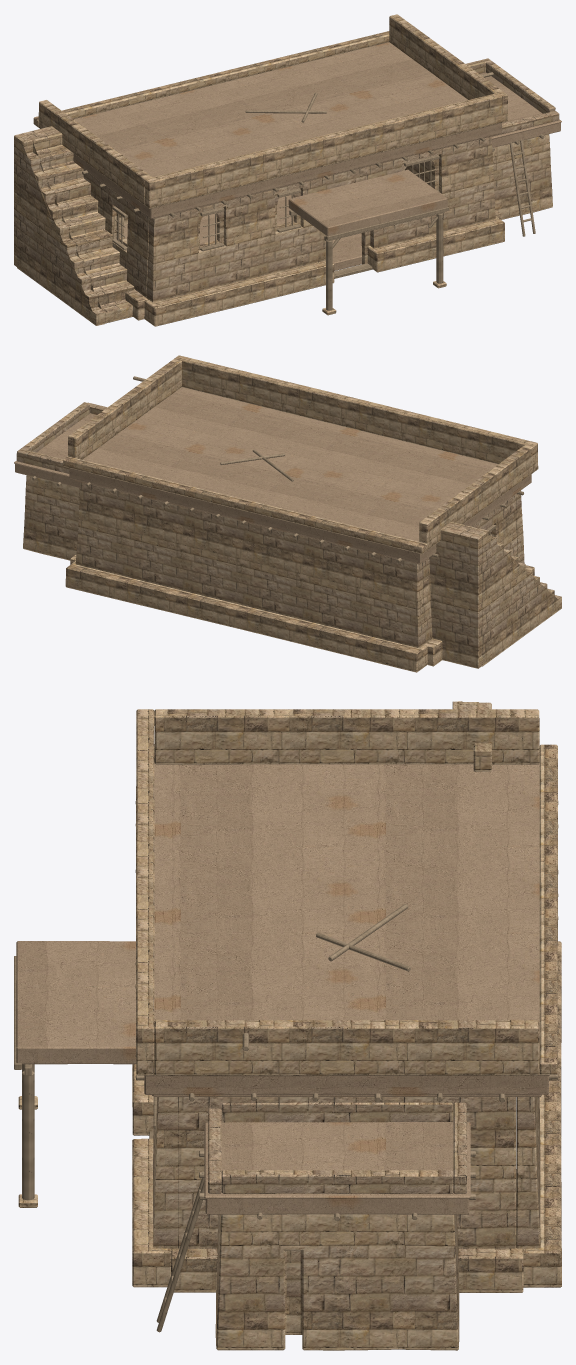
The picture shows the model from 3 angles, top to bottom: view 1: azimuth 30°, elevation 25°; view 2: azimuth 150°, elevation 25°; view 3: azimuth 270°, elevation 25°; orthographic projection. The views are drawn at different scales.
Parts seen in each view (by area): view 1: house; view 2: house; view 3: house.
Boxes of the visible parts, x1=… form: house: x1=14, y1=14, x2=561, y2=326; house: x1=14, y1=355, x2=561, y2=672; house: x1=14, y1=701, x2=561, y2=1350.
Bounding box in the file's own units: 17.4 × 5.34 × 9.61.
Materials: 3 (3 with a texture image).
